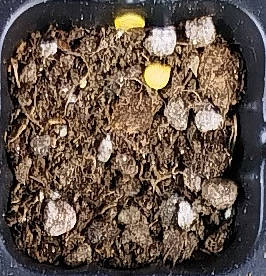pepper seed: (57, 17, 230, 108), (40, 0, 187, 29)
